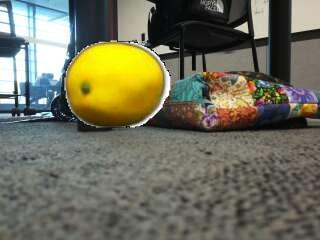lemon: (67, 43, 164, 126)
